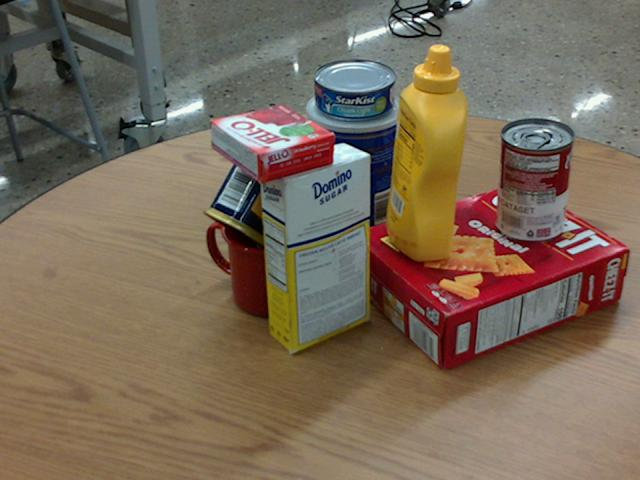cracker_box: (352, 180, 627, 370)
gelatin_box: (209, 103, 334, 183)
large_marker: (435, 126, 456, 229)
master_chef_can: (308, 85, 405, 242)
mug: (205, 201, 314, 315)
mustard_bottle: (386, 44, 467, 261)
potted_meat_can: (203, 135, 326, 261)
sugar_box: (257, 143, 369, 351)
tomato_soup_can: (496, 117, 574, 241)
tuna_fish_can: (314, 58, 396, 119)
